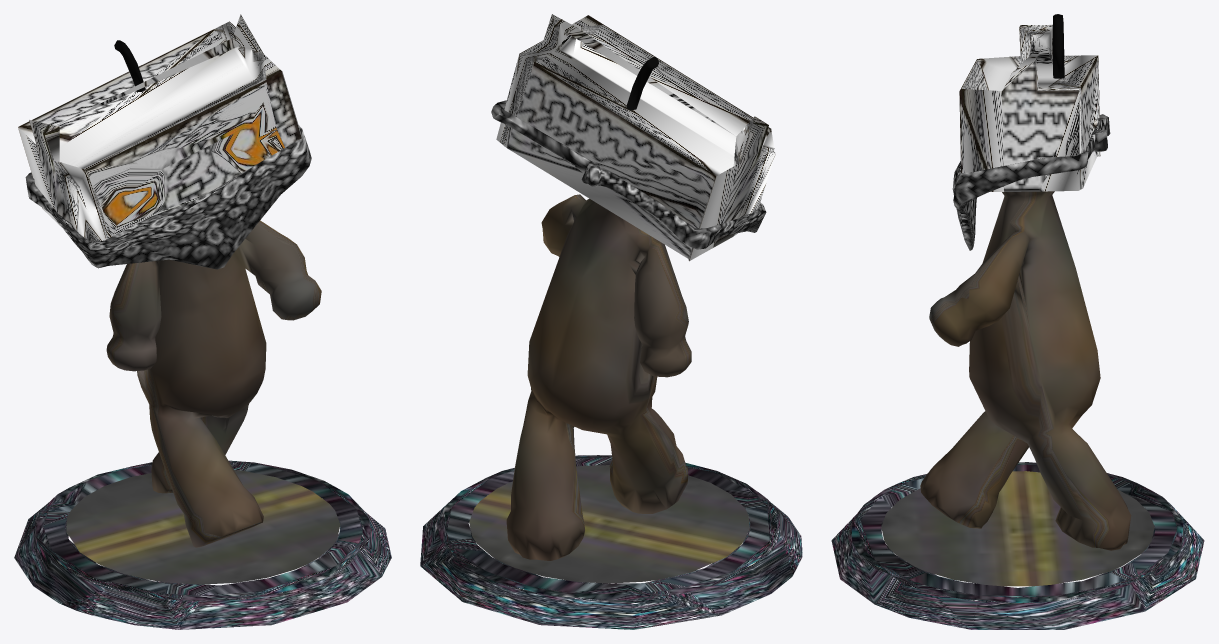
The picture shows the model from 3 angles, left to right: view 1: azimuth 30°, elevation 25°; view 2: azimuth 150°, elevation 25°; view 3: azimuth 270°, elevation 25°; orthographic projection. The views are drawn at different scales.
Size of the model in its own units: 1.42 by 2.19 by 1.43.
Materials: 6 (5 with a texture image).
